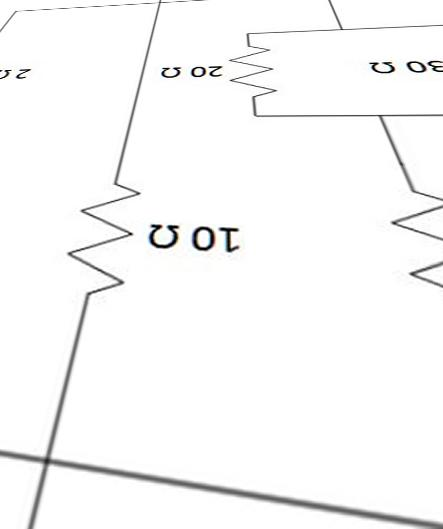resistor: (64, 164, 150, 300), (228, 38, 286, 104)
